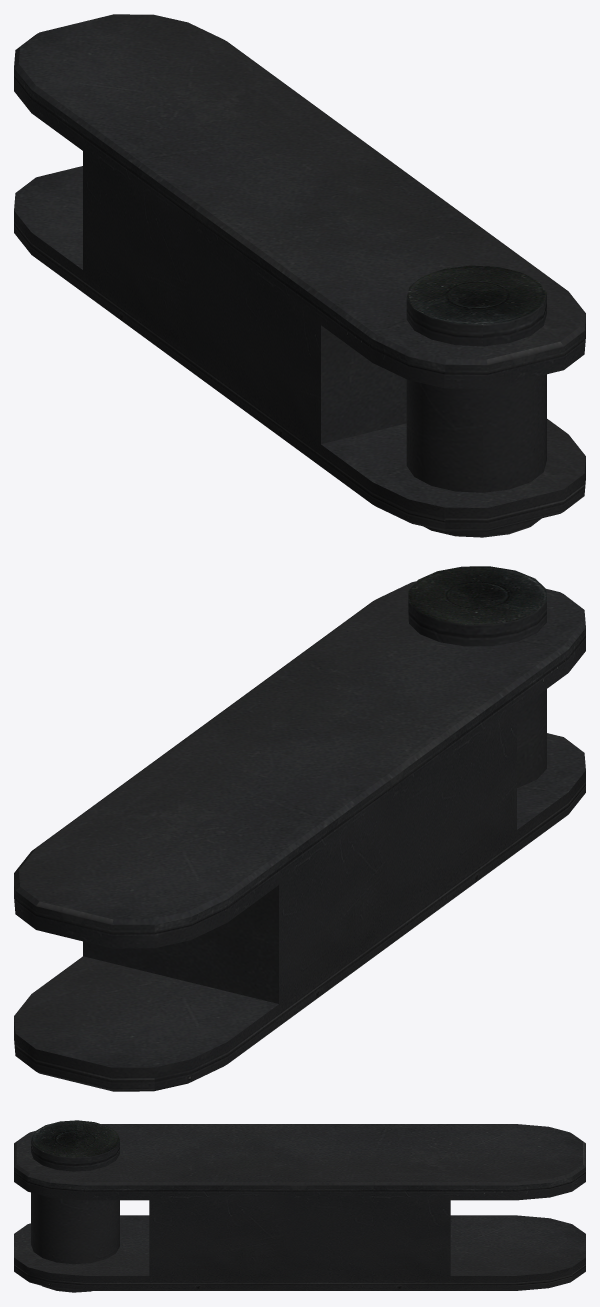
File: wall_mount_arm-1.FBX
The picture shows the model from 3 angles, top to bottom: view 1: azimuth 30°, elevation 25°; view 2: azimuth 150°, elevation 25°; view 3: azimuth 270°, elevation 25°; orthographic projection. The views are drawn at different scales.
Parts seen in each view (by area): view 1: arm-1_LOD0; view 2: arm-1_LOD0; view 3: arm-1_LOD0.
Boxes of the visible parts, box(x1,y1,x2,y2) form: arm-1_LOD0: box(14, 14, 585, 537); arm-1_LOD0: box(14, 566, 585, 1091); arm-1_LOD0: box(14, 1120, 585, 1292).
Size of what is drawn, in the model's own units: 2.87 by 2.97 by 11.44.
